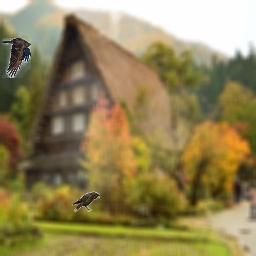Crow: (2, 38, 31, 78), (72, 191, 100, 212)
